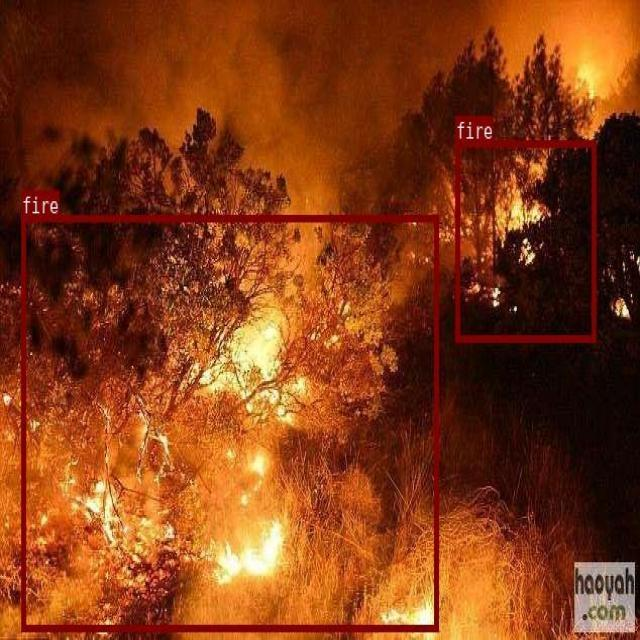fire: (21, 215, 437, 630), (454, 140, 595, 341)
